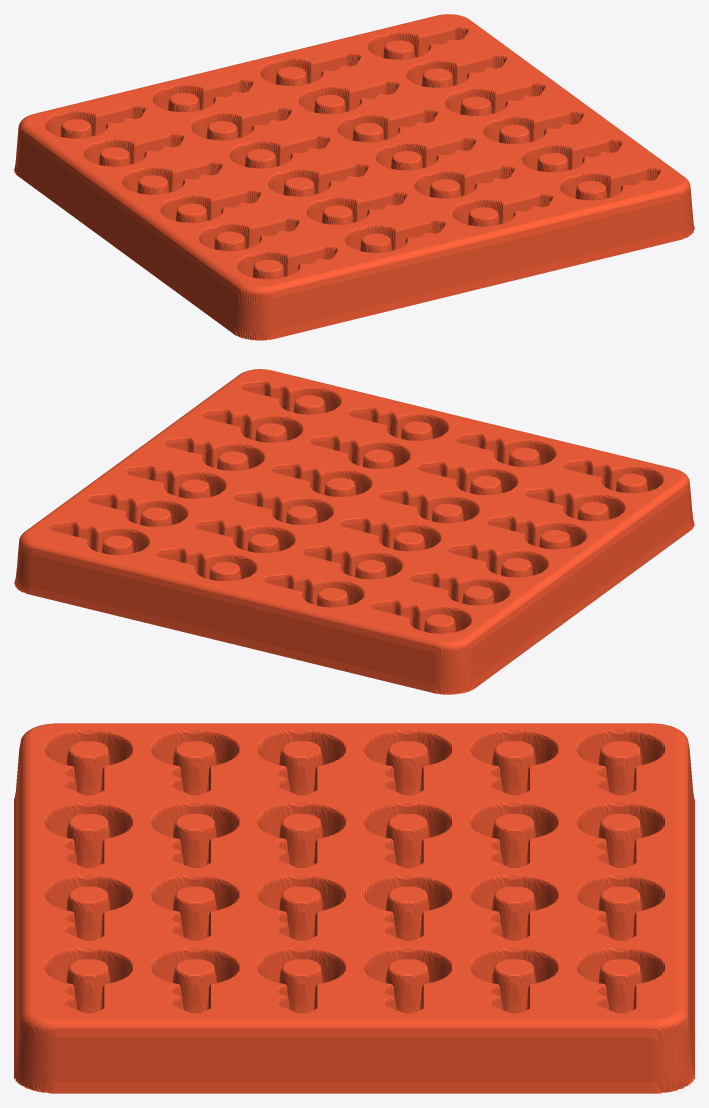
Rendered from mold.glb.
The picture shows the model from 3 angles, top to bottom: view 1: azimuth 30°, elevation 25°; view 2: azimuth 150°, elevation 25°; view 3: azimuth 270°, elevation 25°; orthographic projection. The views are drawn at different scales.
Visible parts, largest first — view 1: geometry_0; view 2: geometry_0; view 3: geometry_0.
Part boxes in pixels (x1,y1,x2,y2): geometry_0: (14,14,694,340); geometry_0: (14,369,694,694); geometry_0: (14,723,694,1093).
Bounding box in the file's own units: 0.1561 × 0.0159 × 0.1455.
